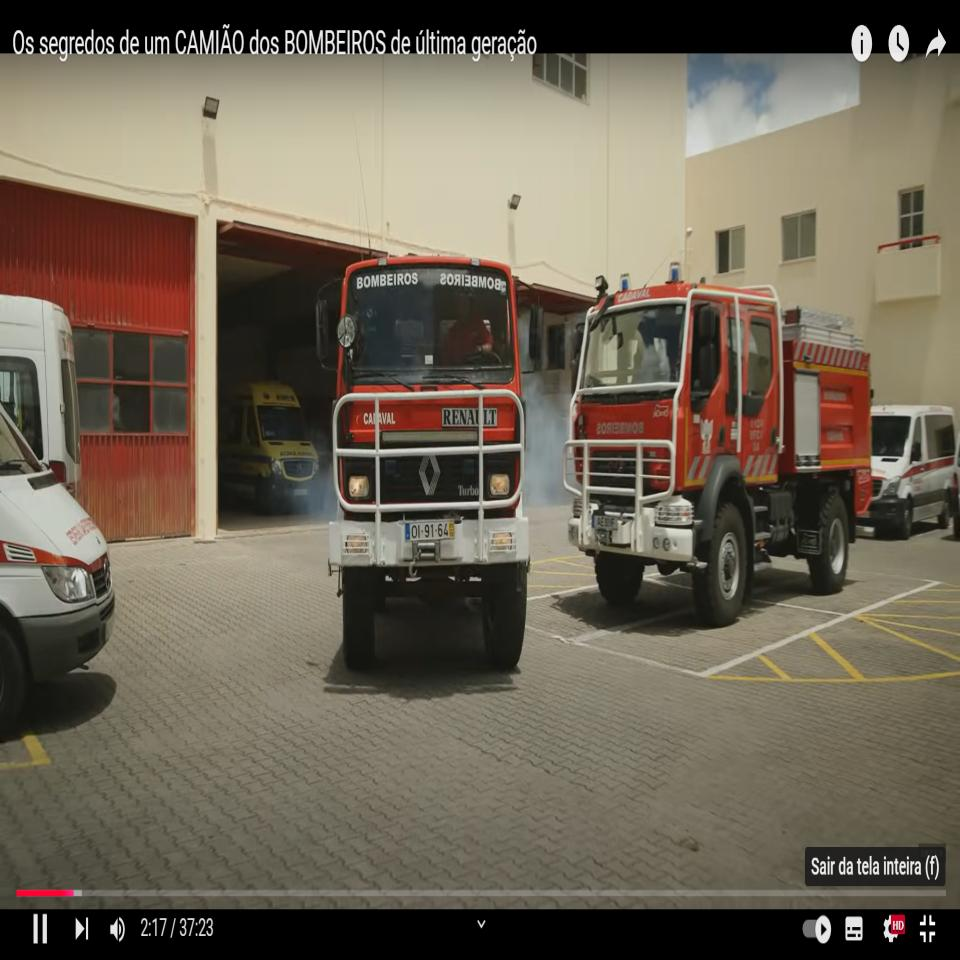viatura: (565, 260, 877, 626), (312, 242, 547, 668)
